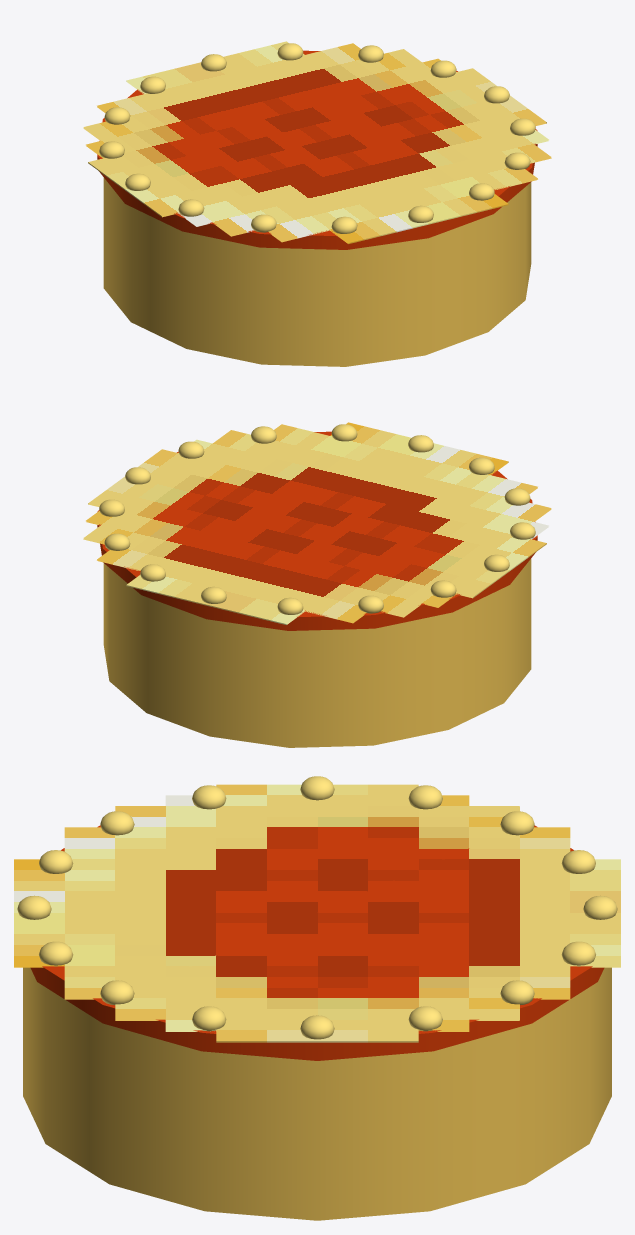
Rendered from CMU3DBakedCakeApple.glb.
3 views of the same model, one above another, from view 1: azimuth 30°, elevation 25°; view 2: azimuth 150°, elevation 25°; view 3: azimuth 270°, elevation 25° (orthographic). The views are drawn at different scales.
Visible parts, largest first — view 1: original top filling and decoration, whole cake crumb body, frosted top edge; view 2: original top filling and decoration, whole cake crumb body, frosted top edge; view 3: original top filling and decoration, whole cake crumb body, frosted top edge, piped frosting edge 2, piped frosting edge 3, piped frosting edge 15, piped frosting edge 16, piped frosting edge 4, piped frosting edge 14, piped frosting edge 5, piped frosting edge 7, piped frosting edge 11 (+7 smaller).
Part boxes in pixels (left/top/right/bottom): original top filling and decoration: left=83, top=41, right=551, bottom=243; whole cake crumb body: left=103, top=177, right=531, bottom=366; frosted top edge: left=97, top=50, right=537, bottom=249; original top filling and decoration: left=83, top=422, right=551, bottom=624; whole cake crumb body: left=103, top=558, right=531, bottom=747; frosted top edge: left=97, top=431, right=537, bottom=630; original top filling and decoration: left=14, top=784, right=620, bottom=1042; whole cake crumb body: left=23, top=967, right=611, bottom=1220; frosted top edge: left=30, top=825, right=604, bottom=1060; piped frosting edge 2: left=408, top=1006, right=442, bottom=1031; piped frosting edge 3: left=500, top=980, right=534, bottom=1005; piped frosting edge 15: left=100, top=980, right=134, bottom=1005; piped frosting edge 16: left=192, top=1006, right=226, bottom=1031; piped frosting edge 4: left=561, top=941, right=595, bottom=966; piped frosting edge 14: left=39, top=941, right=73, bottom=966; piped frosting edge 5: left=583, top=895, right=617, bottom=919; piped frosting edge 7: left=500, top=811, right=534, bottom=835; piped frosting edge 11: left=100, top=811, right=134, bottom=835.
Size of the model in its own units: 0.74 by 0.267 by 0.74.
Materials: 5 (1 with a texture image).
